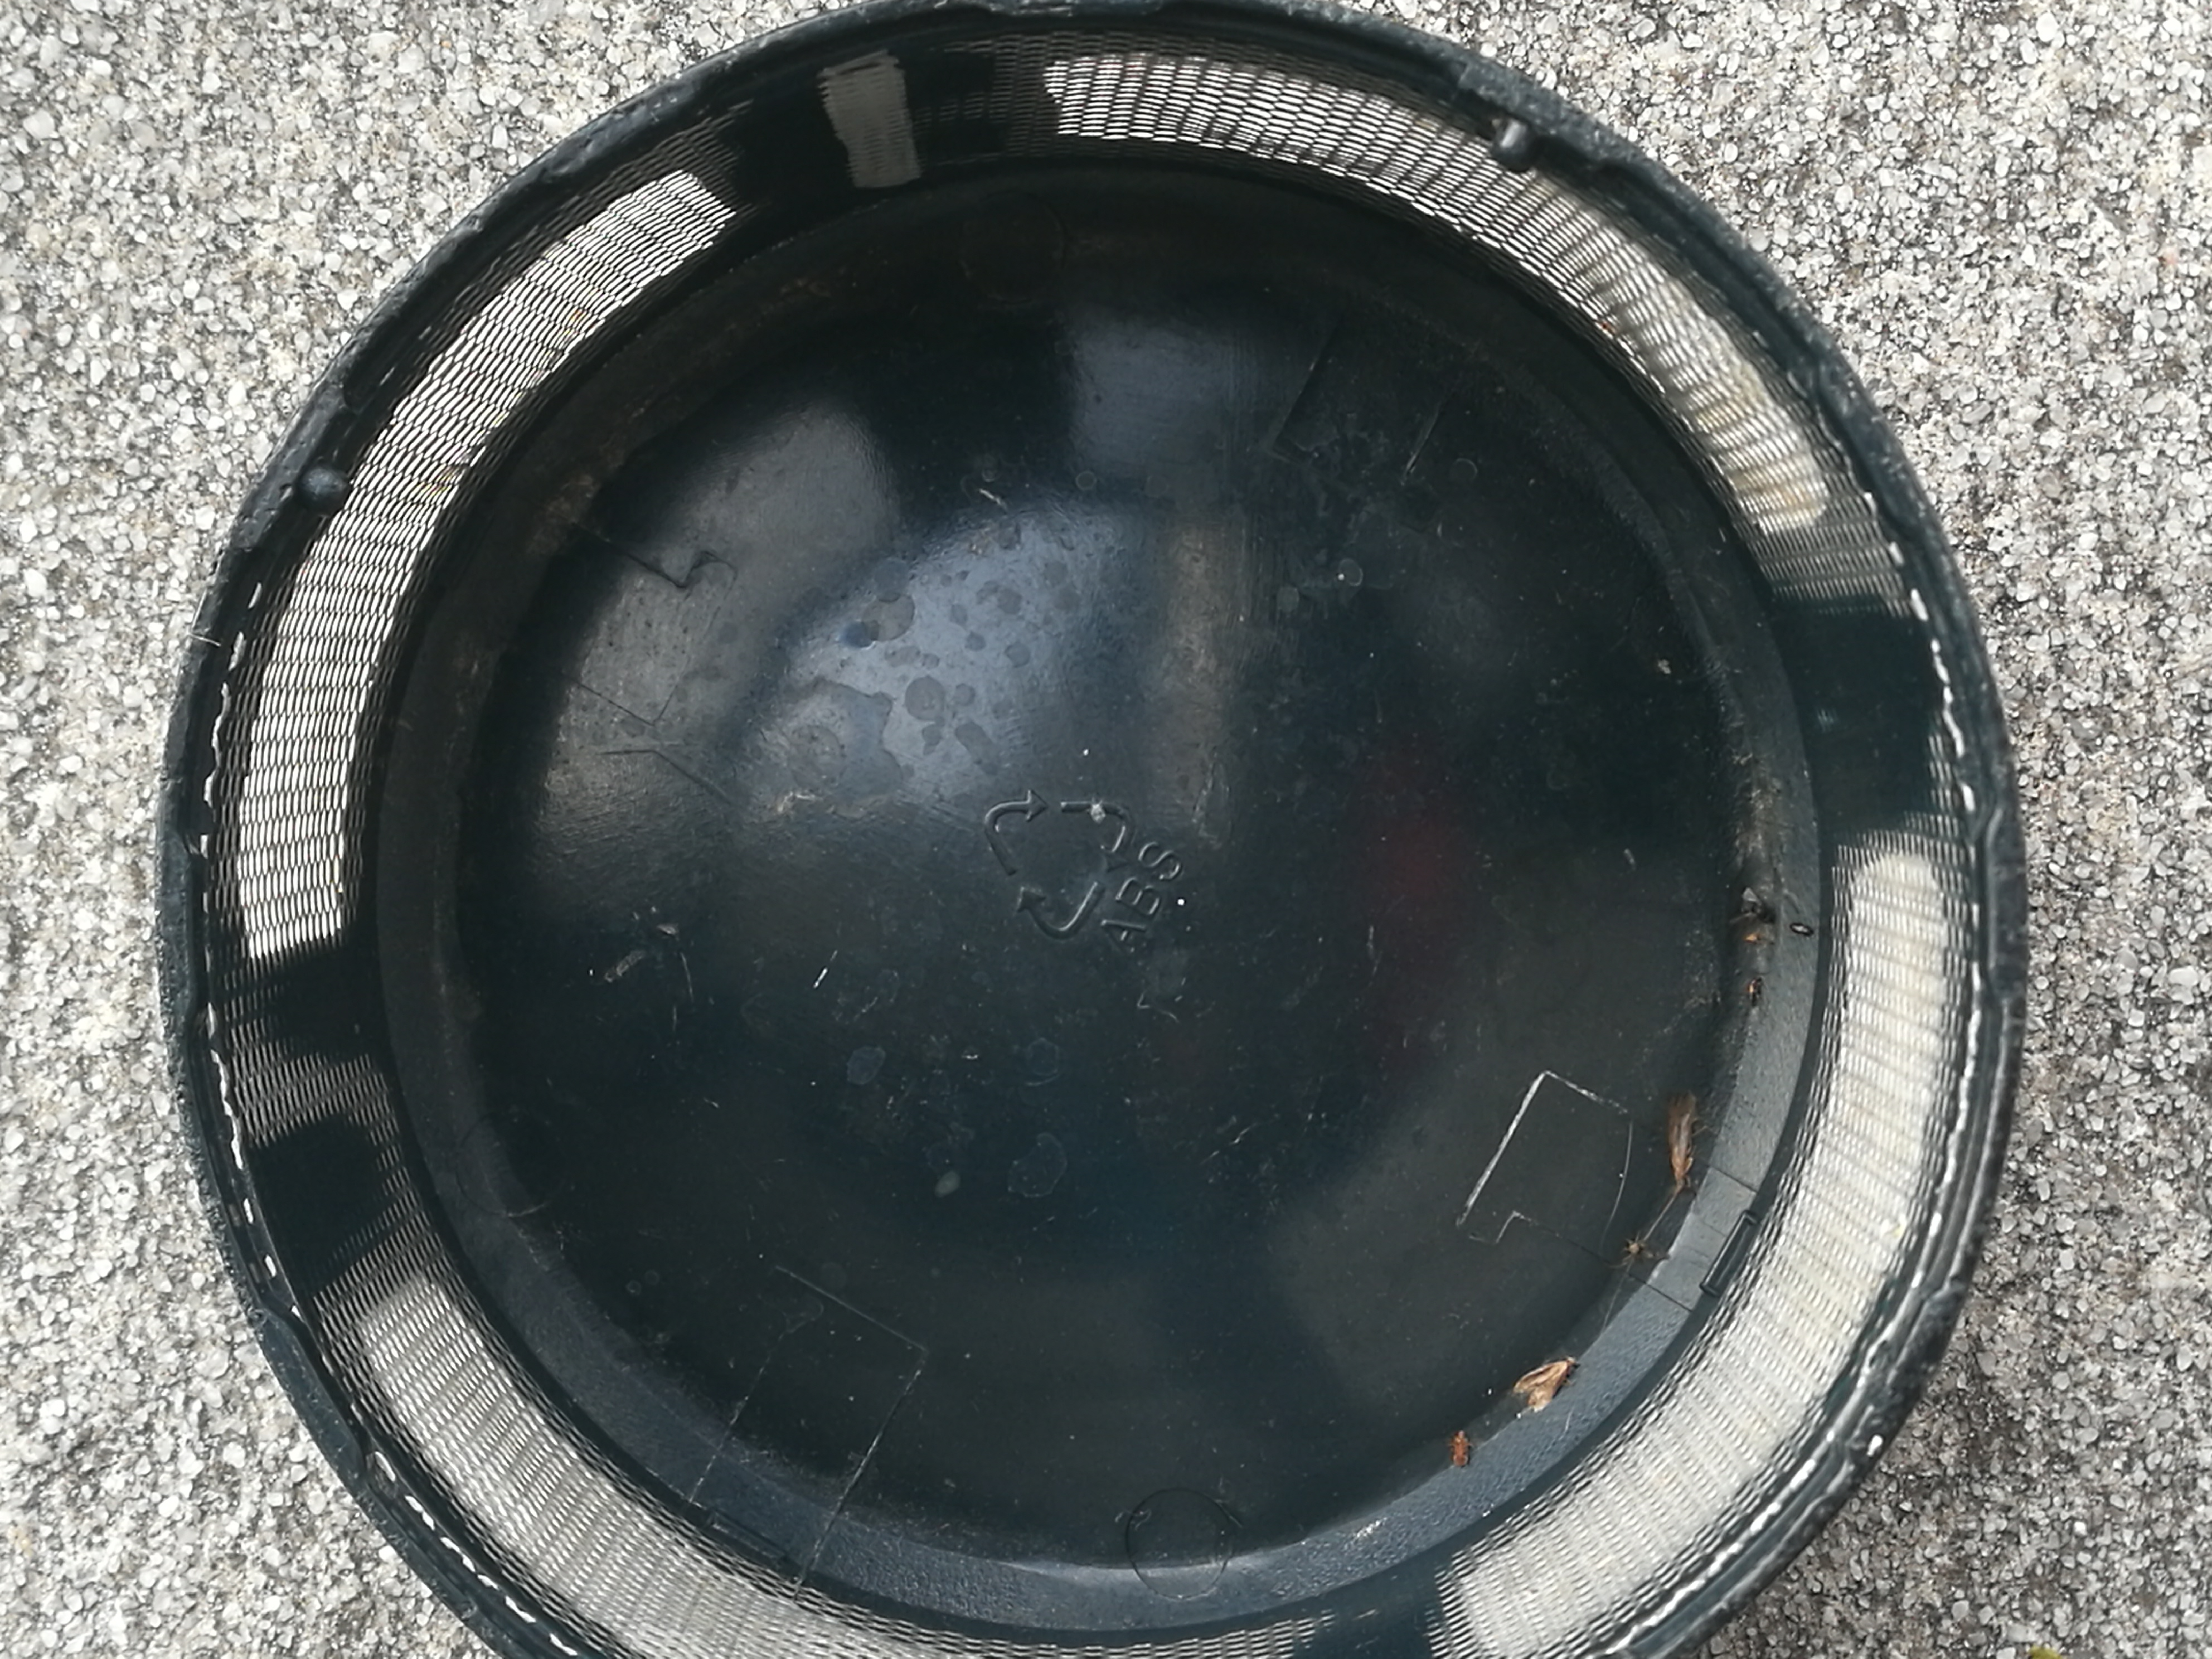mosquito: (1667, 1091, 1698, 1180)
moth: (1510, 1356, 1578, 1410)
